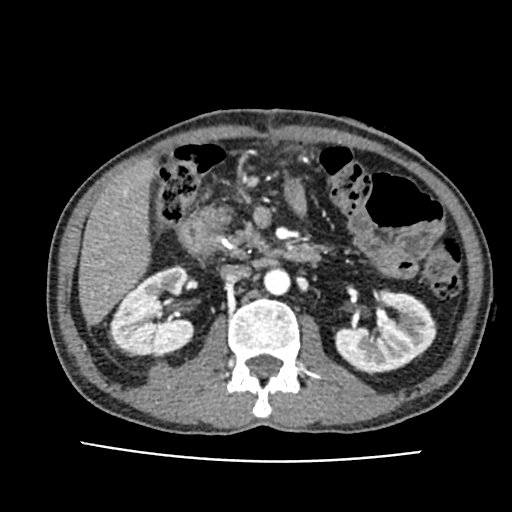aorta: (262, 266, 291, 296)
